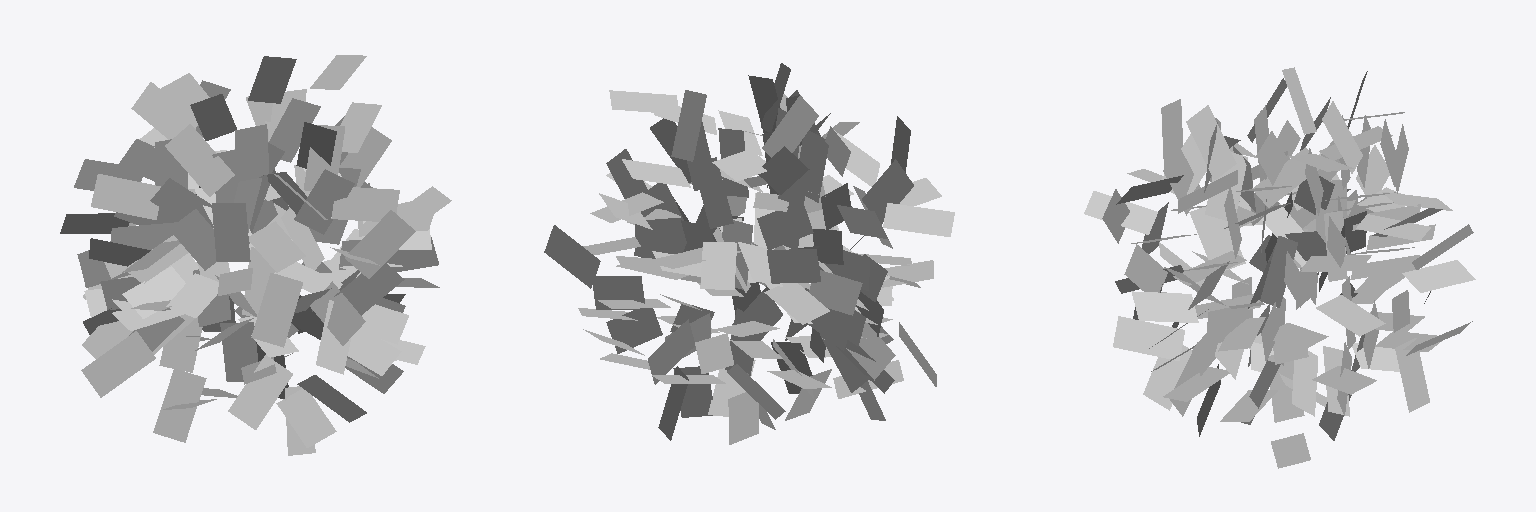
File: cerisier02_leaf2.obj
3 views of the same model, side by side, from view 1: azimuth 30°, elevation 25°; view 2: azimuth 150°, elevation 25°; view 3: azimuth 270°, elevation 25° (orthographic).
Size of the model in its own units: 3.48 by 3.33 by 3.43.